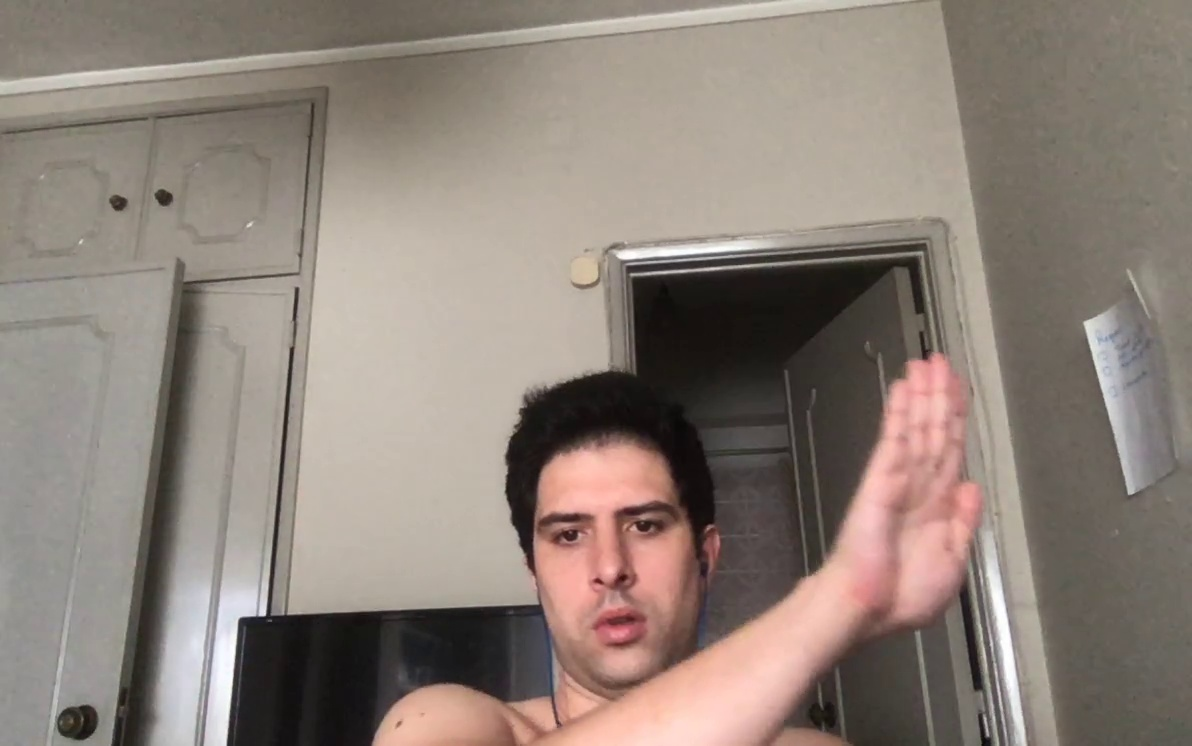b: (835, 345, 993, 632)
